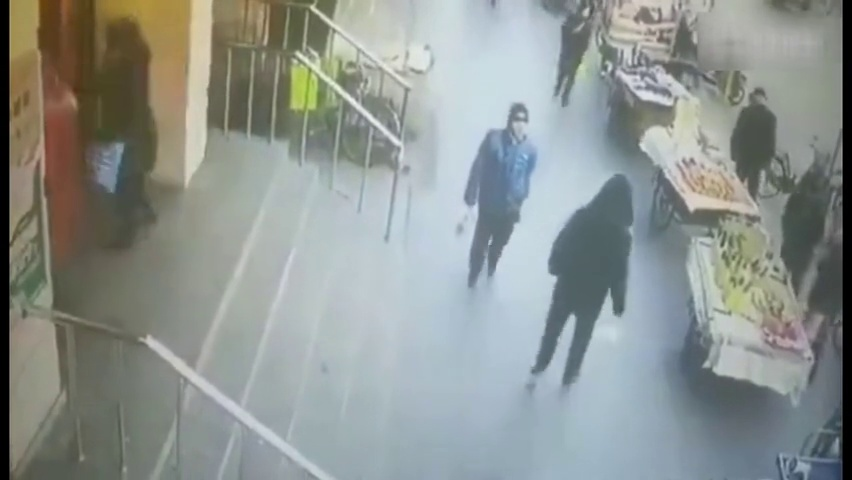nofall: (536, 147, 637, 394), (87, 23, 173, 244), (453, 87, 536, 286), (774, 146, 823, 288), (724, 84, 776, 203), (546, 5, 595, 109)
